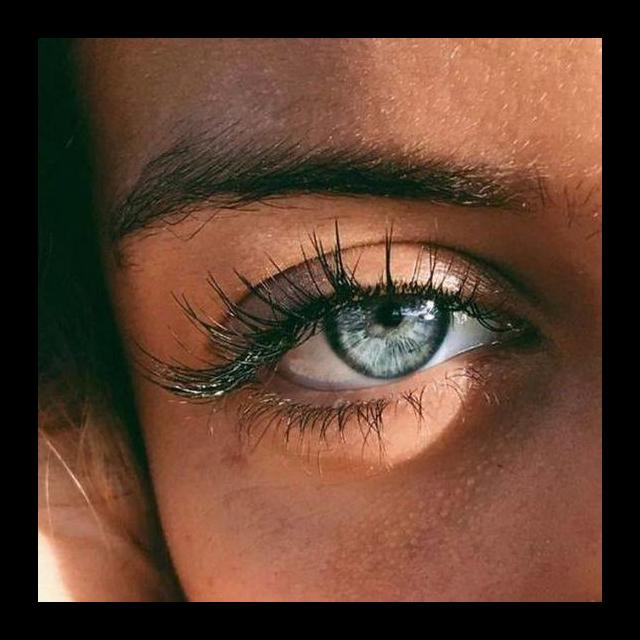eye: (273, 290, 513, 384)
iris: (327, 292, 452, 377)
